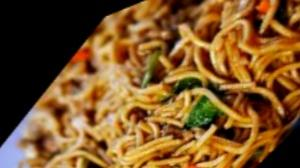pancit bihon: (25, 0, 299, 167)
